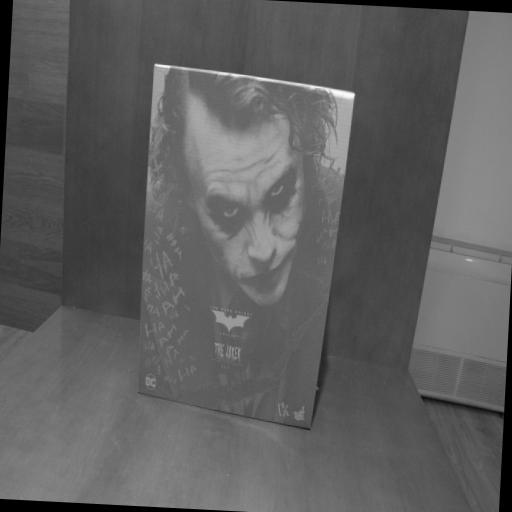Joker: (131, 60, 358, 434)
